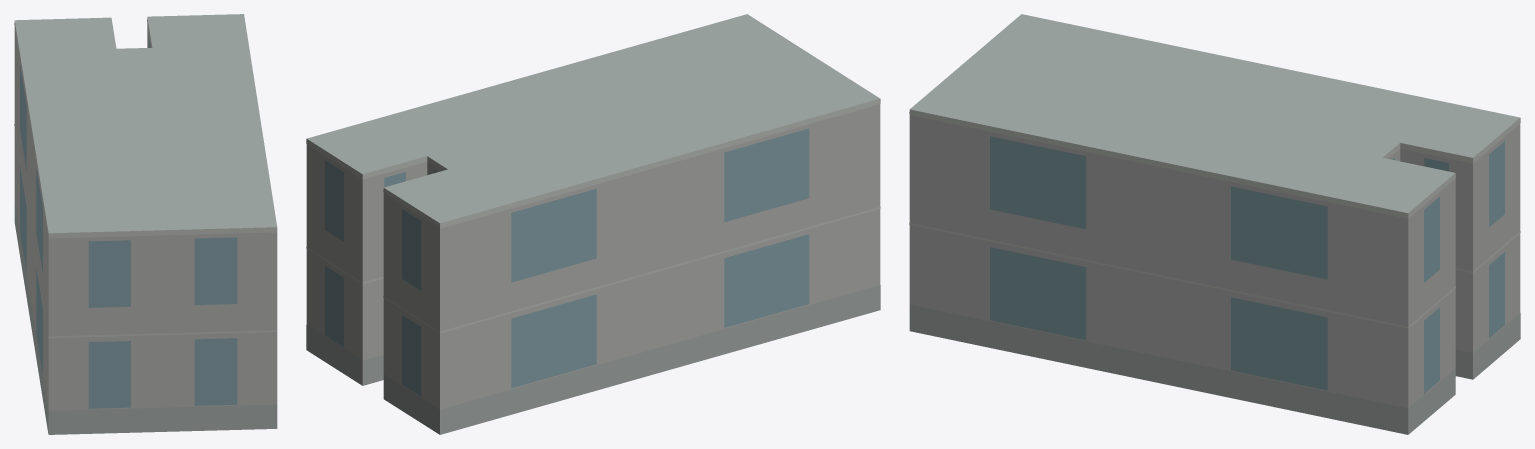
The model's file is survey-upis-32521298.glb.
3 renders of one model, left to right at view 1: azimuth 30°, elevation 25°; view 2: azimuth 150°, elevation 25°; view 3: azimuth 270°, elevation 25°, orthographic. The views are drawn at different scales.
Visible parts, largest first — view 1: survey-upis-32521298.tmp; view 2: survey-upis-32521298.tmp; view 3: survey-upis-32521298.tmp.
Boxes of the visible parts, box(x1,y1,x2,y2) form: survey-upis-32521298.tmp: box(14, 14, 277, 434); survey-upis-32521298.tmp: box(306, 14, 880, 434); survey-upis-32521298.tmp: box(909, 14, 1520, 434).
Bounding box in the file's own units: 18.14 × 9.4 × 23.5.
